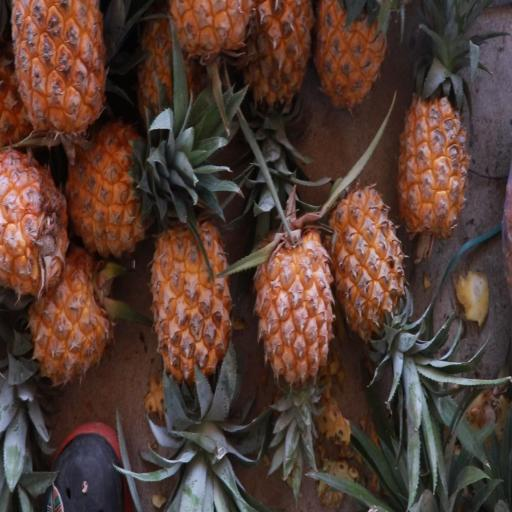Pineapple - v8 v1: (147, 211, 234, 422), (44, 123, 168, 270), (323, 182, 409, 375), (251, 218, 339, 402), (10, 0, 109, 155), (394, 55, 473, 244), (23, 244, 116, 395), (0, 138, 71, 302), (239, 0, 319, 125), (312, 0, 390, 118)
